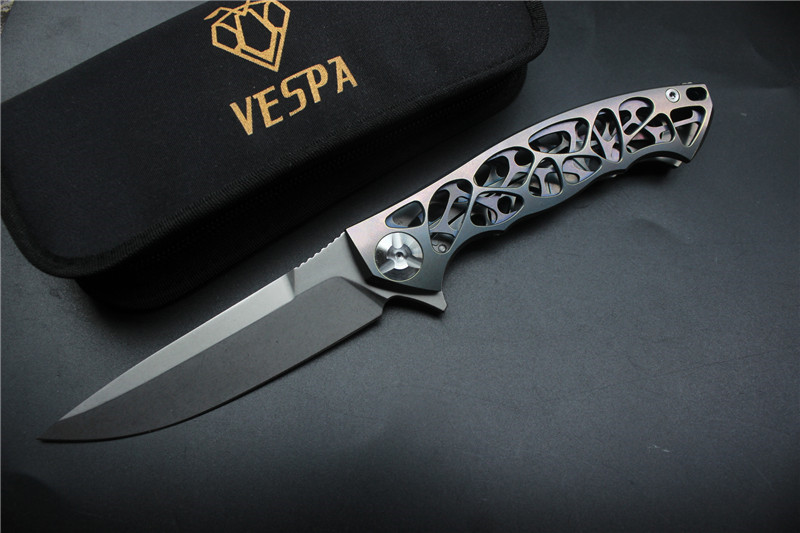knife: (27, 206, 457, 453)
